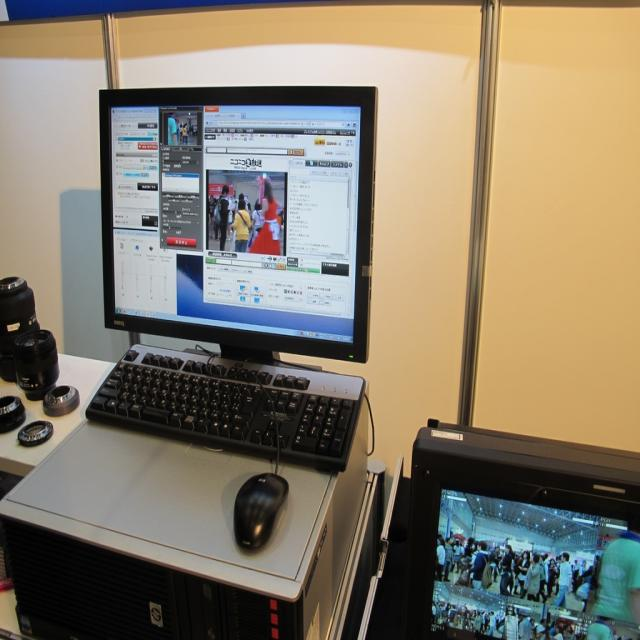desk: (0, 402, 385, 617)
keyboard: (85, 341, 368, 472)
mouse: (234, 472, 289, 550)
person: (585, 527, 640, 624)
tv: (100, 82, 378, 366), (406, 423, 639, 640)
